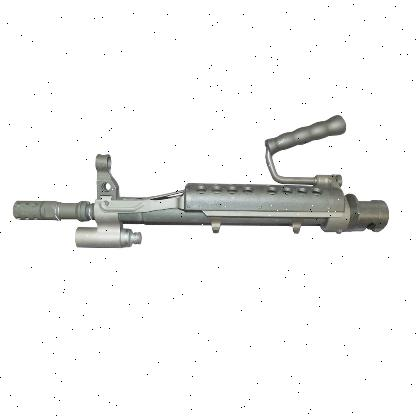gun: (11, 142, 396, 276)
